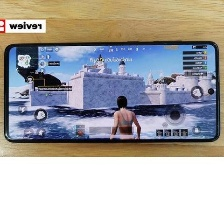phone: (0, 38, 222, 148)
